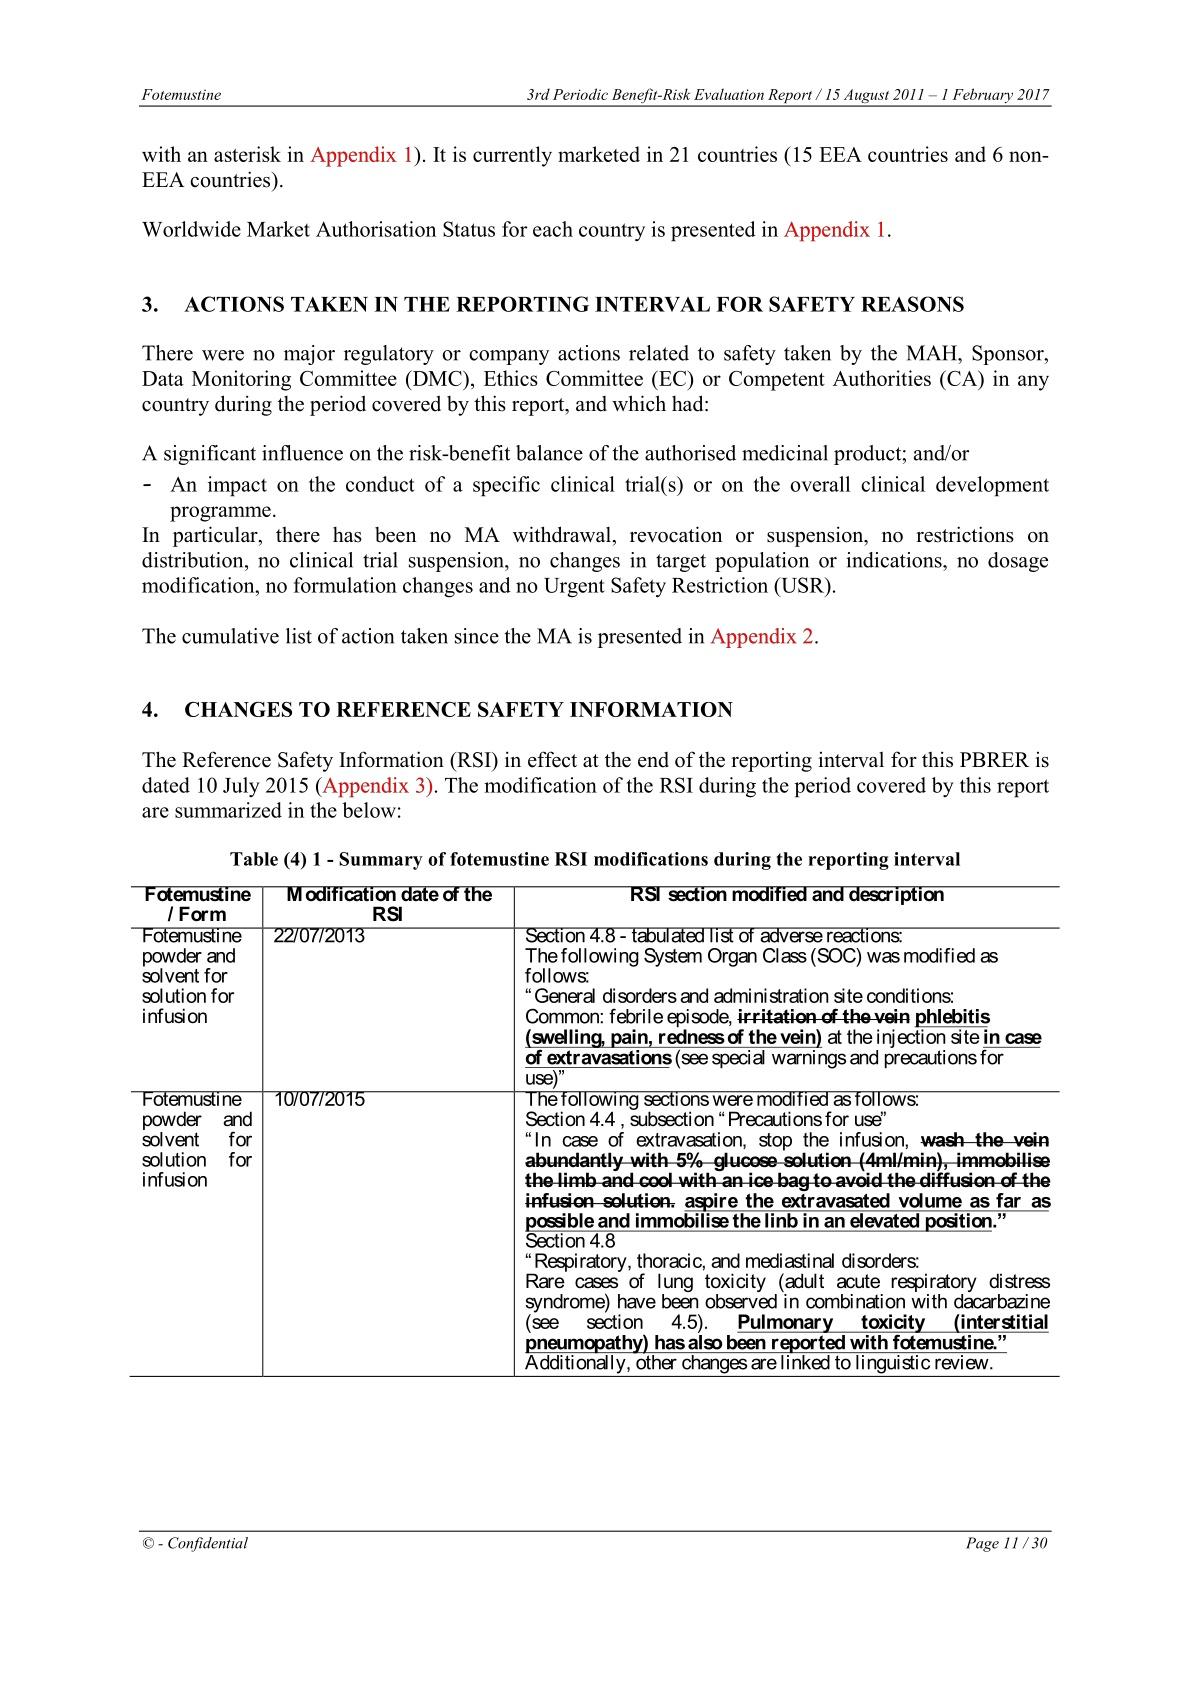partial_lined: (128, 885, 1060, 1379)
